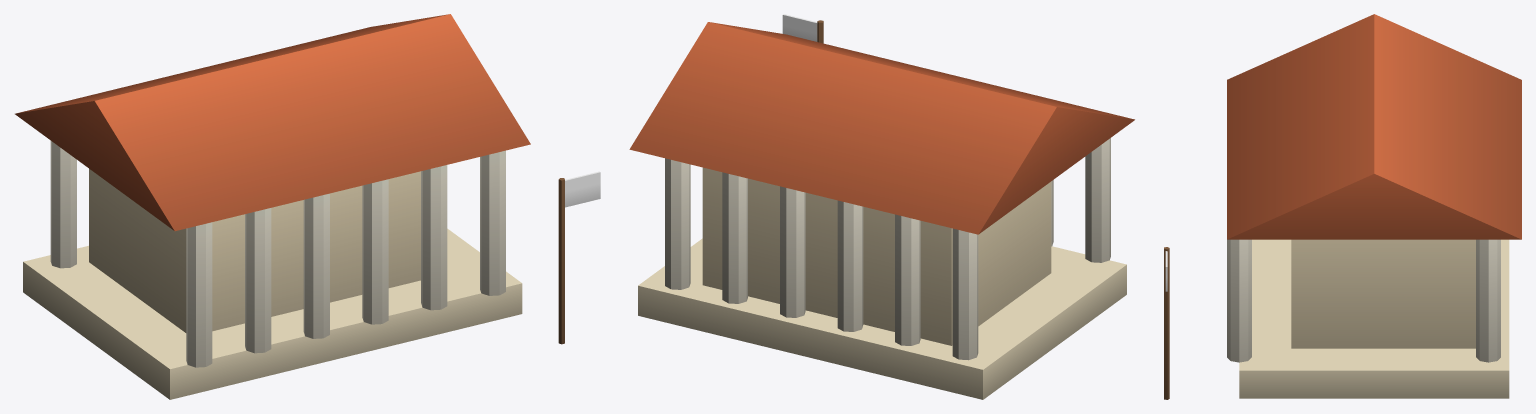
File: BASE_GREEK.glb
3 renders of one model, left to right at view 1: azimuth 30°, elevation 25°; view 2: azimuth 150°, elevation 25°; view 3: azimuth 270°, elevation 25°, orthographic. The views are drawn at different scales.
Parts seen in each view (by area): view 1: Body, Flag; view 2: Body, Flag; view 3: Body.
Boxes of the visible parts, x1,y1,x2,y2 form: Body: (15, 14, 564, 399); Flag: (565, 171, 600, 207); Body: (629, 20, 1134, 399); Flag: (782, 14, 817, 41); Body: (1164, 14, 1521, 399).
Size of the model in its own units: 4.01 by 2.4 by 3.44.
Materials: 1 (1 with a texture image).
